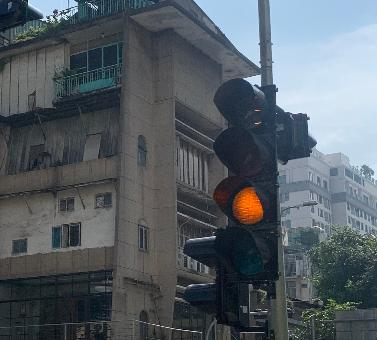yellow_light: (212, 126, 279, 282)
